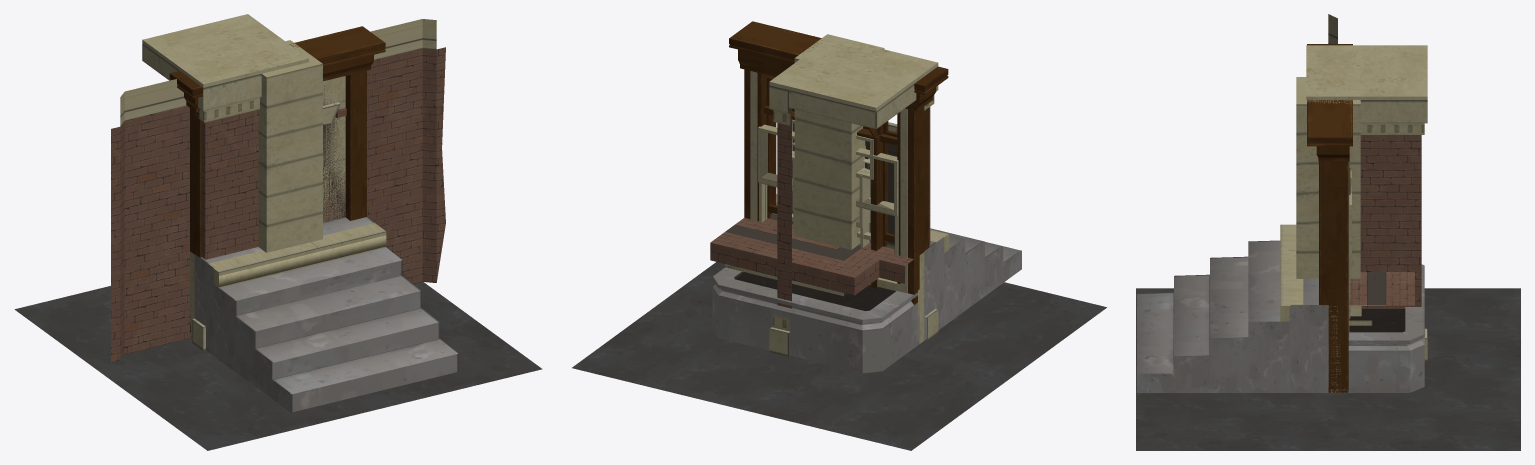
The model's file is kit.glb.
3 renders of one model, left to right at view 1: azimuth 30°, elevation 25°; view 2: azimuth 150°, elevation 25°; view 3: azimuth 270°, elevation 25°, orthographic. The views are drawn at different scales.
Visible parts, largest first — view 1: brick-window-arch, steps, roof, brick-window-double, trim-column, door-wood, brick-corner-cap, brick-corner-base, brick-corner, brick-corner-top, cornice-trim, trim-plain (+3 smaller); view 2: roof, planter, door-wood, brick-corner-cap, trim-column, steps, cornice-brick-corner, trim-shop, brick-corner-top, brick-corner, brick-window-double, brick-corner-base (+8 smaller); view 3: roof, steps, door-wood, brick-corner, brick-corner-cap, planter, trim-column, brick-corner-top, brick-corner-base, cornice-trim, cornice-brick-corner, cornice-metal-corner (+2 smaller).
Part boxes in pixels (x1,y1,x2,y2): brick-window-arch: (112,19,445,359); steps: (194,217,458,412); roof: (14,282,542,450); brick-window-double: (111,19,445,362); trim-column: (258,40,322,252); door-wood: (169,26,385,339); brick-corner-cap: (142,14,308,87); brick-corner-base: (192,110,258,350); brick-corner: (202,109,258,258); brick-corner-top: (196,74,261,259); cornice-trim: (190,223,386,339); trim-plain: (323,76,345,222); roof: (572,262,1106,450); planter: (712,267,924,373); door-wood: (729,21,948,304); brick-corner-cap: (769,36,938,129); trim-column: (794,34,884,249); steps: (772,203,1021,340); cornice-brick-corner: (710,232,913,295); trim-shop: (750,71,907,293); brick-corner-top: (769,85,938,305); brick-corner: (777,107,930,308); brick-window-double: (758,124,898,255); brick-corner-base: (769,108,938,356); roof: (1136,288,1520,450); steps: (1137,240,1328,392); door-wood: (1307,44,1352,392); brick-corner: (1360,135,1421,308); brick-corner-cap: (1306,45,1427,99); planter: (1330,264,1424,392); trim-column: (1296,77,1360,306); brick-corner-top: (1360,100,1427,308); brick-corner-base: (1360,135,1427,361); cornice-trim: (1280,224,1337,392); cornice-brick-corner: (1386,272,1414,305); cornice-metal-corner: (1367,272,1386,305).
Bounding box in the file's own units: 4 × 3.24 × 4.
12 materials, 10 textured.
